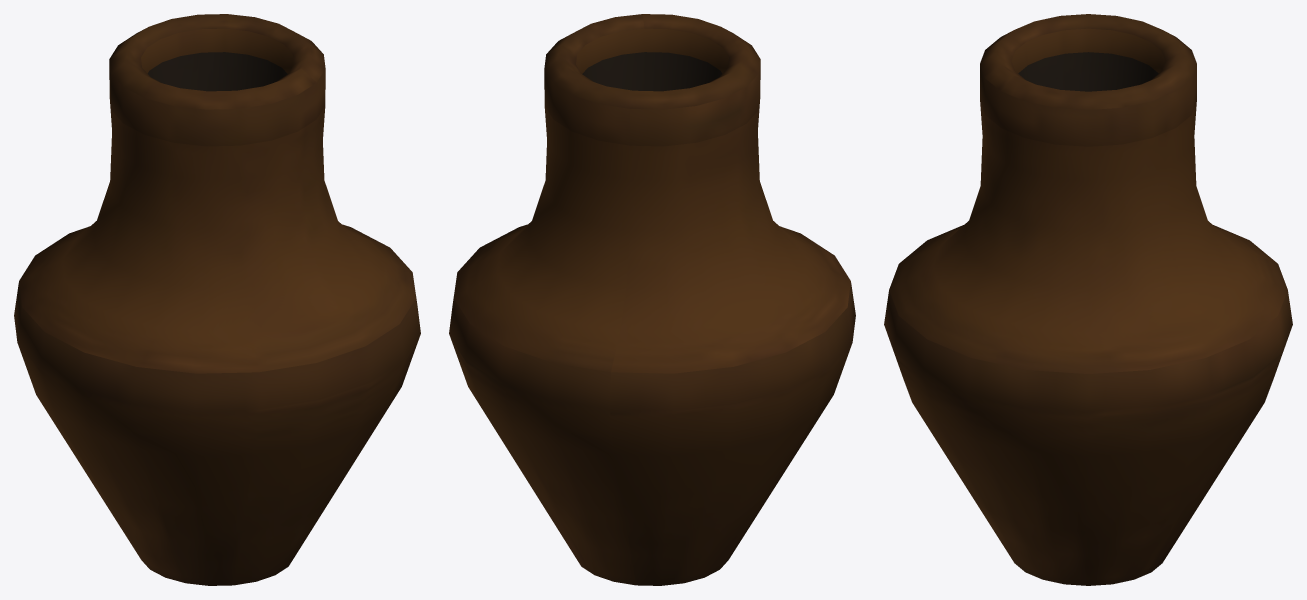
The model's file is vase_b-Cc1KxFPn.glb.
3 views of the same model, side by side, from view 1: azimuth 30°, elevation 25°; view 2: azimuth 150°, elevation 25°; view 3: azimuth 270°, elevation 25° (orthographic).
Parts seen in each view (by area): view 1: Vase_4; view 2: Vase_4; view 3: Vase_4.
Boxes of the visible parts, bbox=[...] form: Vase_4: bbox=[14, 14, 420, 585]; Vase_4: bbox=[449, 14, 855, 585]; Vase_4: bbox=[884, 14, 1292, 585].
Bounding box in the file's own units: 0.935 × 1.26 × 0.935.
1 material, 1 textured.
